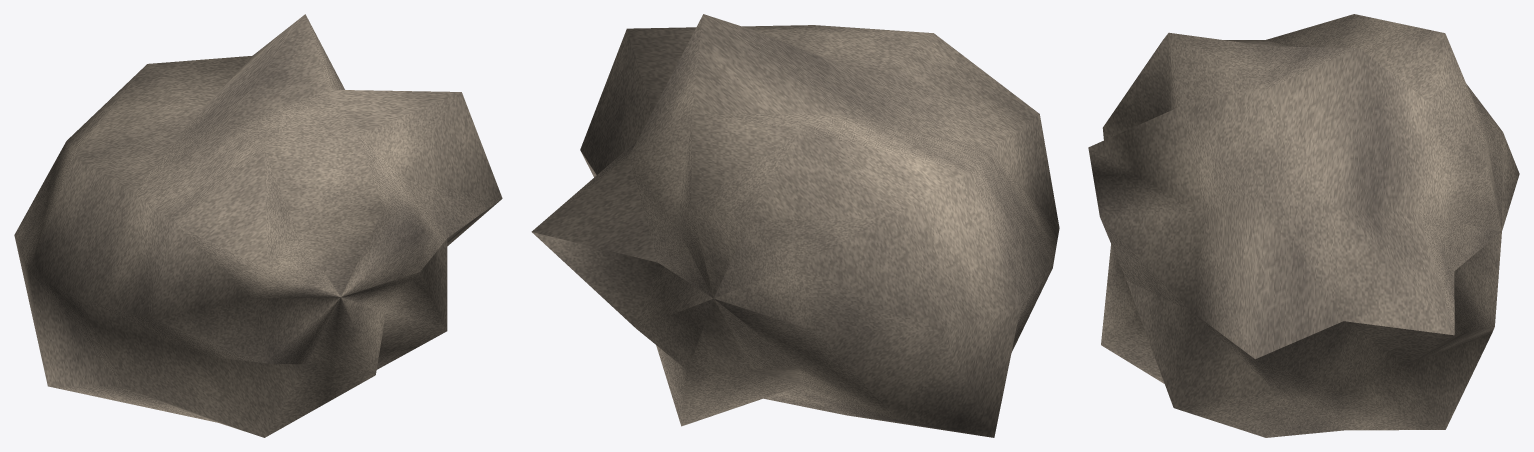
Rendered from rock_1.obj.
3 views of the same model, side by side, from view 1: azimuth 30°, elevation 25°; view 2: azimuth 150°, elevation 25°; view 3: azimuth 270°, elevation 25° (orthographic). The views are drawn at different scales.
Size of the model in its own units: 3.17 by 2.44 by 2.33.
1 material, 1 textured.
